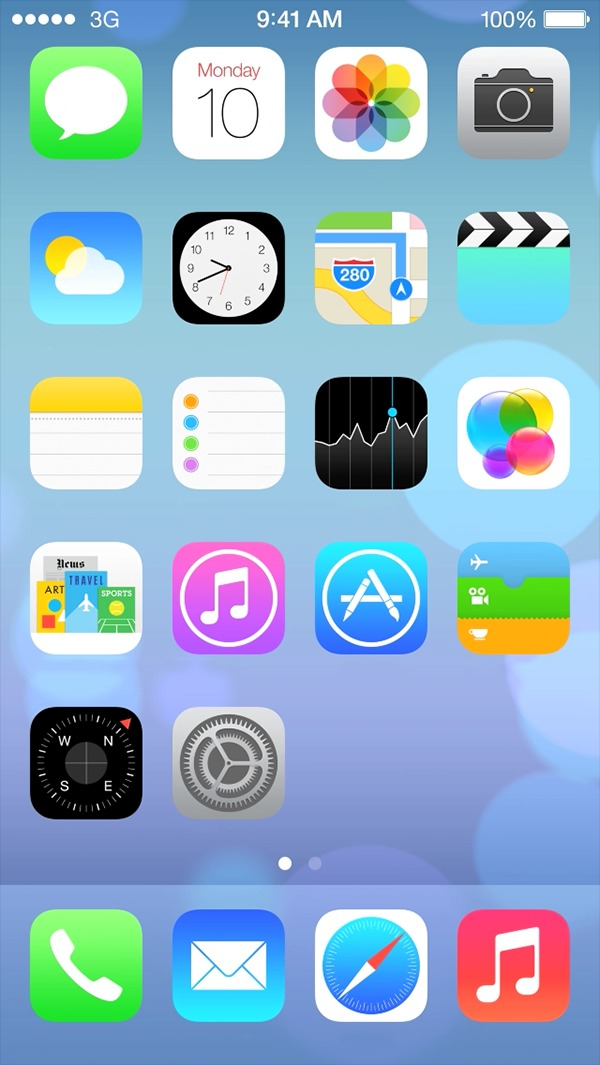camera: (446, 31, 572, 170)
phonemessages: (26, 35, 148, 167)
